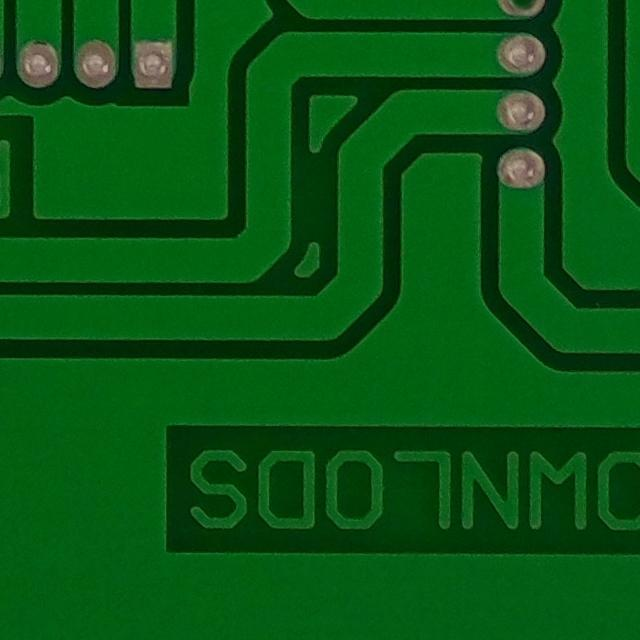missing_hole: (490, 0, 553, 30)
